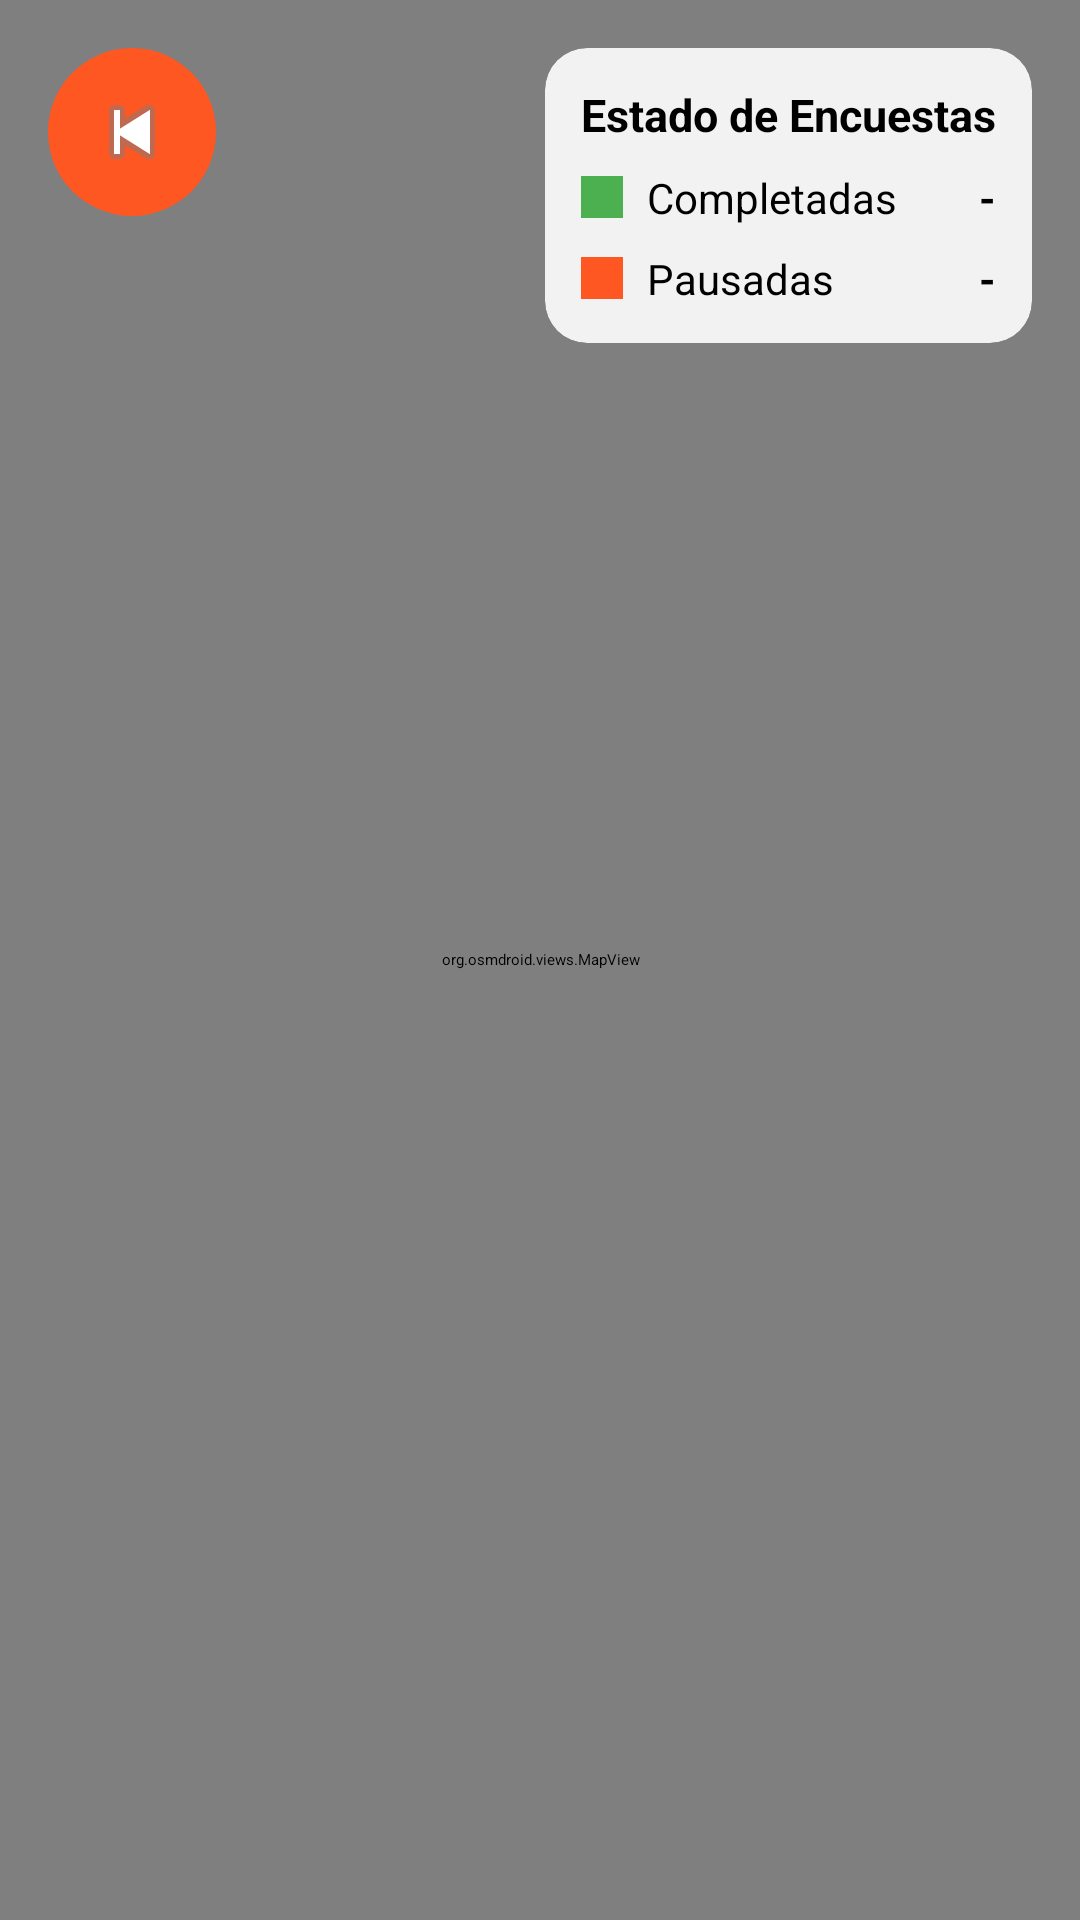

Where icons sit on this 1080×1920 app screen, as [x1=x1, y1=y1, x2=x2, y2=y2]:
Volver: [x1=48, y1=48, x2=216, y2=216]
